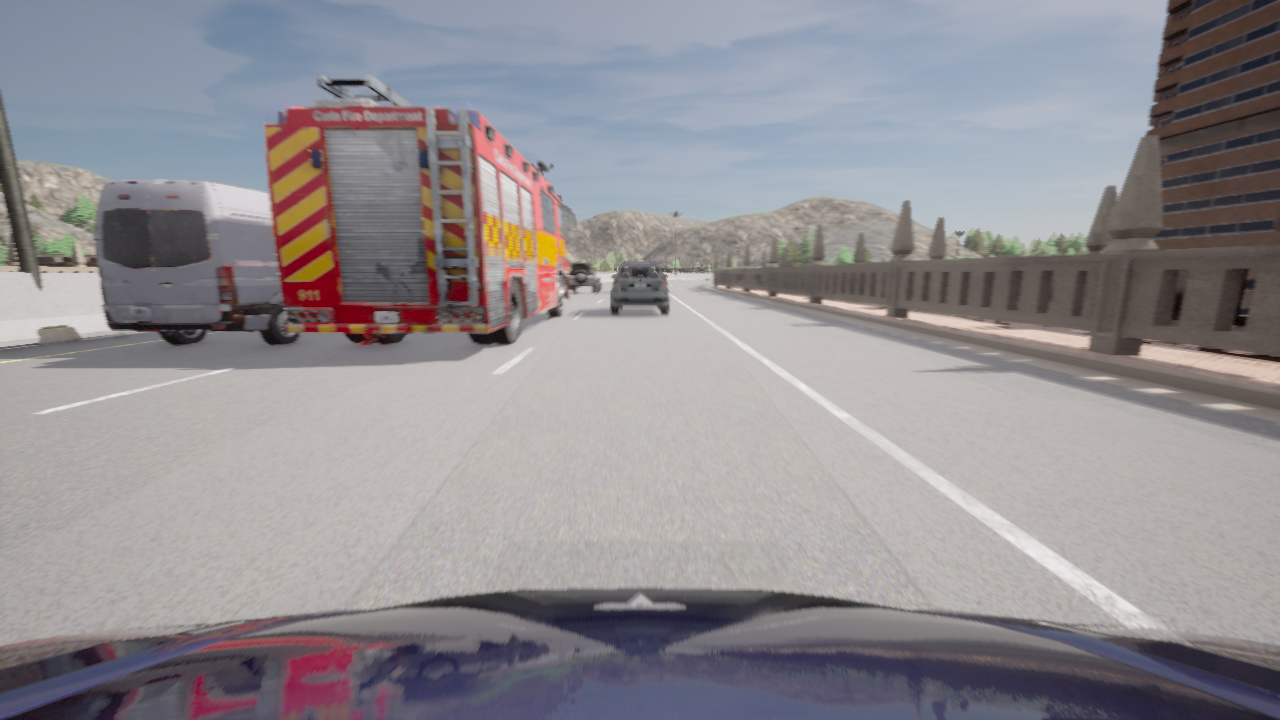cyclist: (0, 588, 1279, 719), (264, 75, 575, 344), (93, 180, 300, 344), (611, 262, 668, 314), (568, 262, 600, 293)
